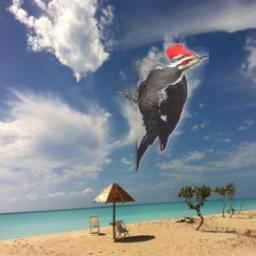Woodpecker: (117, 44, 209, 173)
